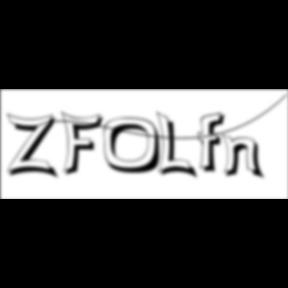F: (61, 110, 109, 178)
L: (157, 110, 201, 182)
O: (104, 117, 168, 176)
Z: (7, 112, 62, 181)
f: (198, 111, 230, 175)
n: (222, 132, 268, 181)
